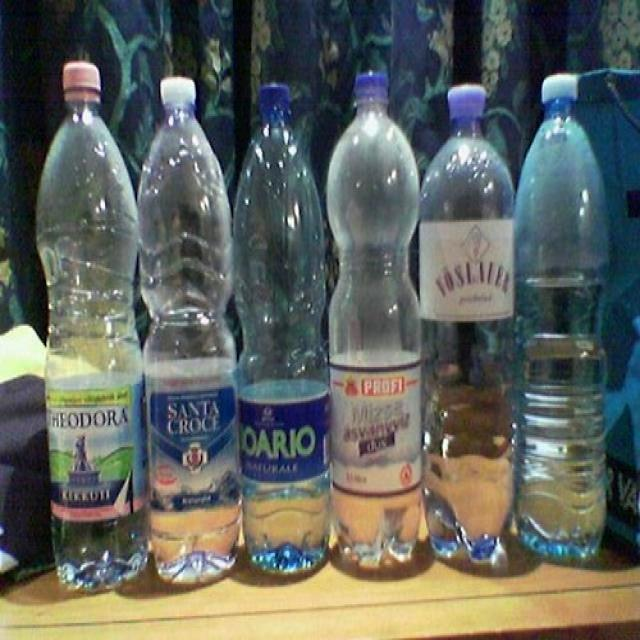bottle: (36, 60, 147, 592), (136, 77, 241, 584), (232, 83, 333, 574), (327, 72, 422, 569), (421, 85, 519, 563), (517, 74, 611, 561)
